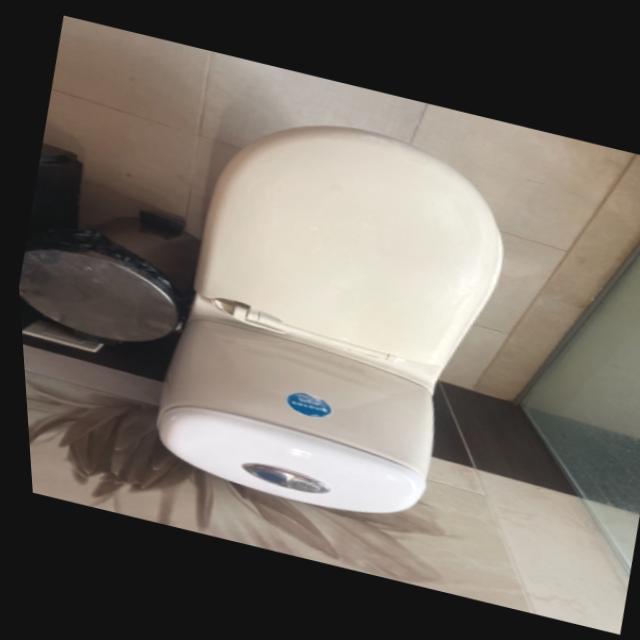toilet: (121, 91, 535, 540)
